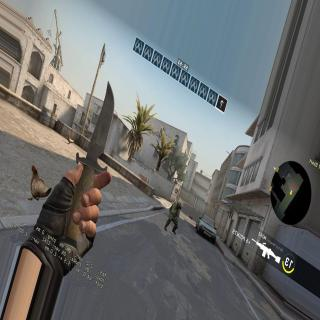CT-Body: (164, 198, 182, 234)
CT-Head: (176, 202, 182, 210)
